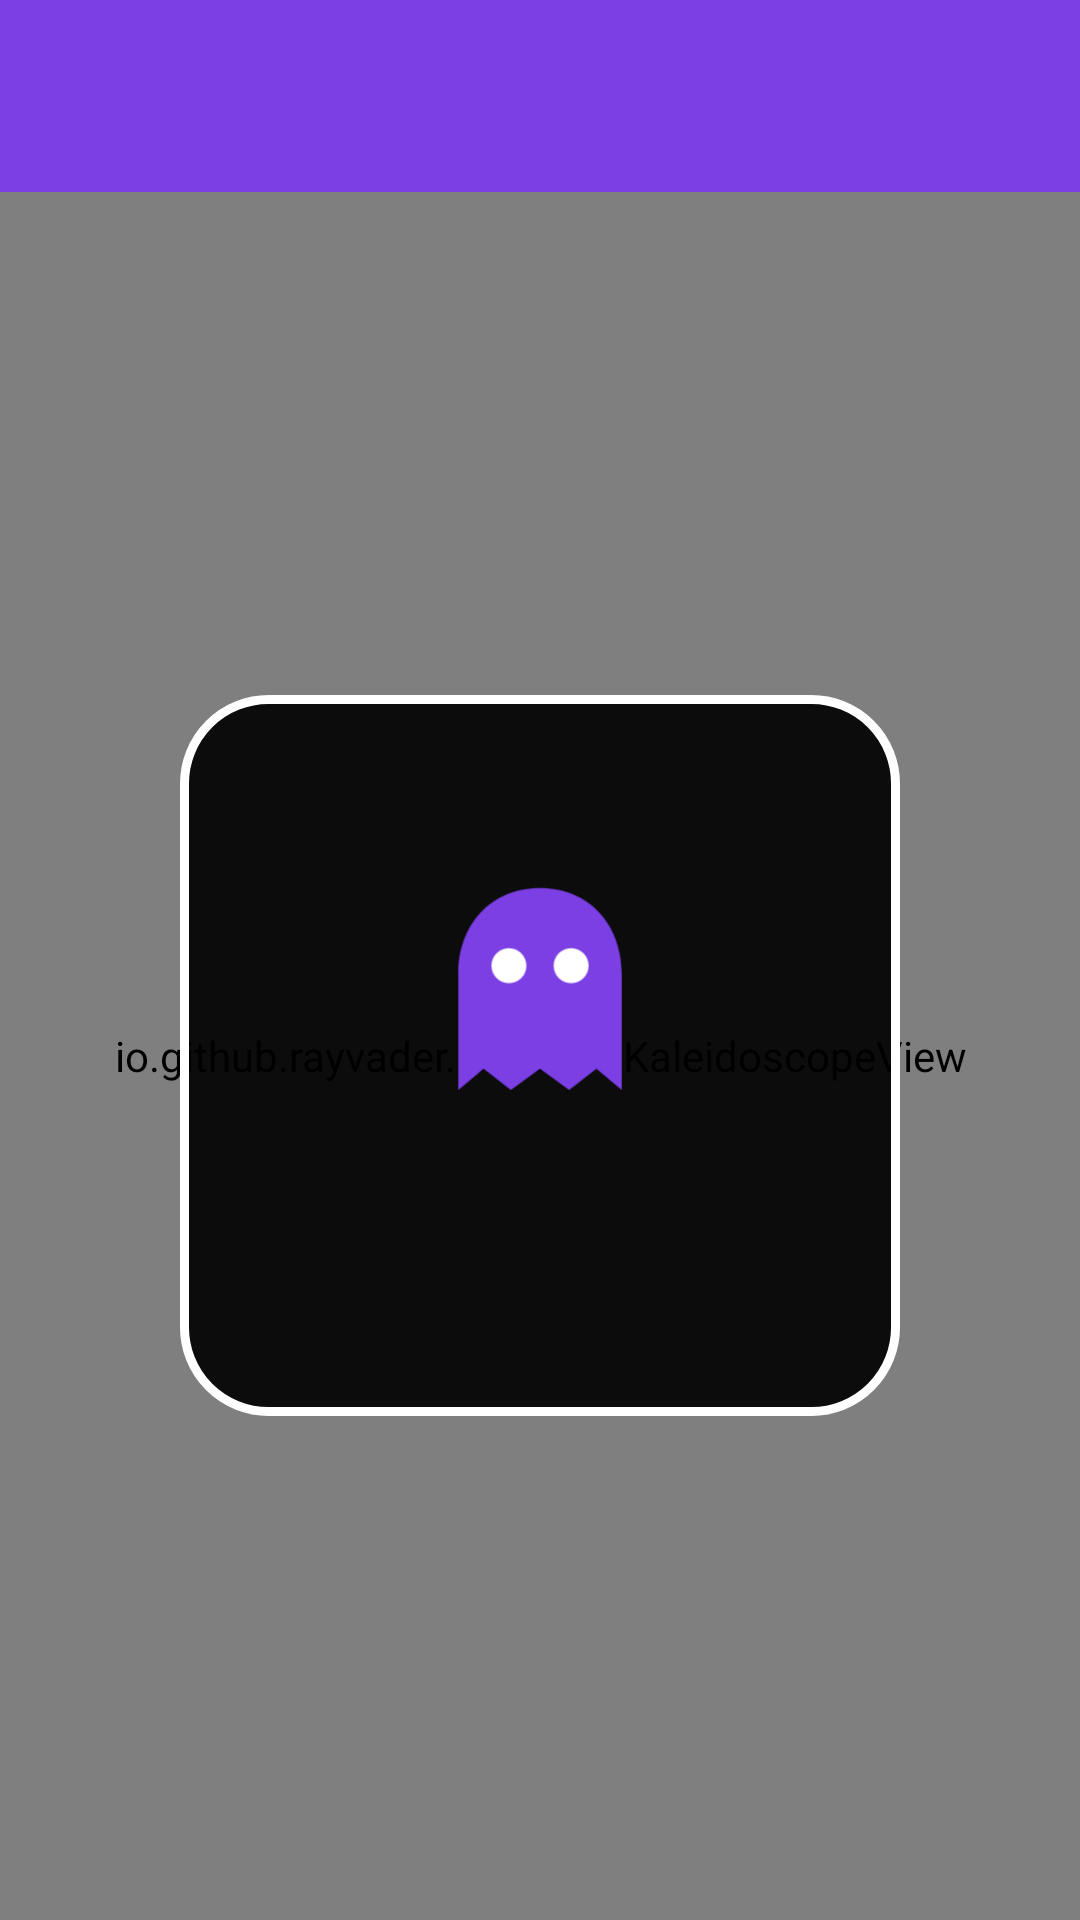

Icons on this 1080*1920 Android screen, each with its box as rect(x1, y1, x2, y2):
ghost: rect(458, 887, 622, 1090)
